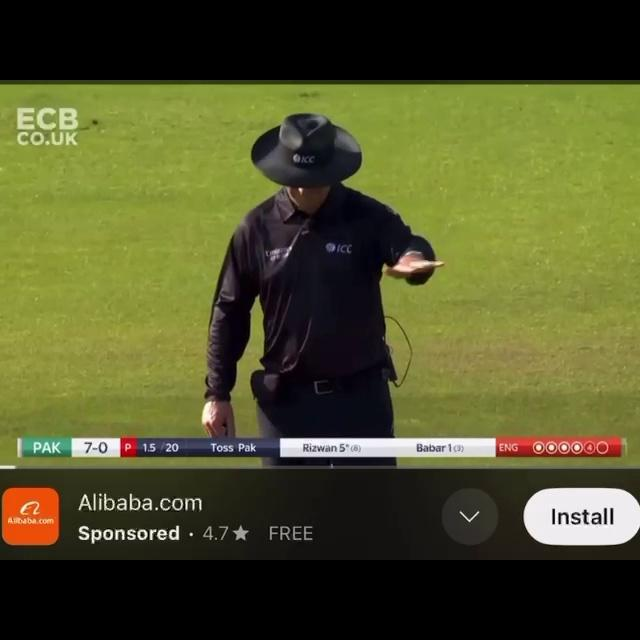umpire: (104, 108, 637, 426)
